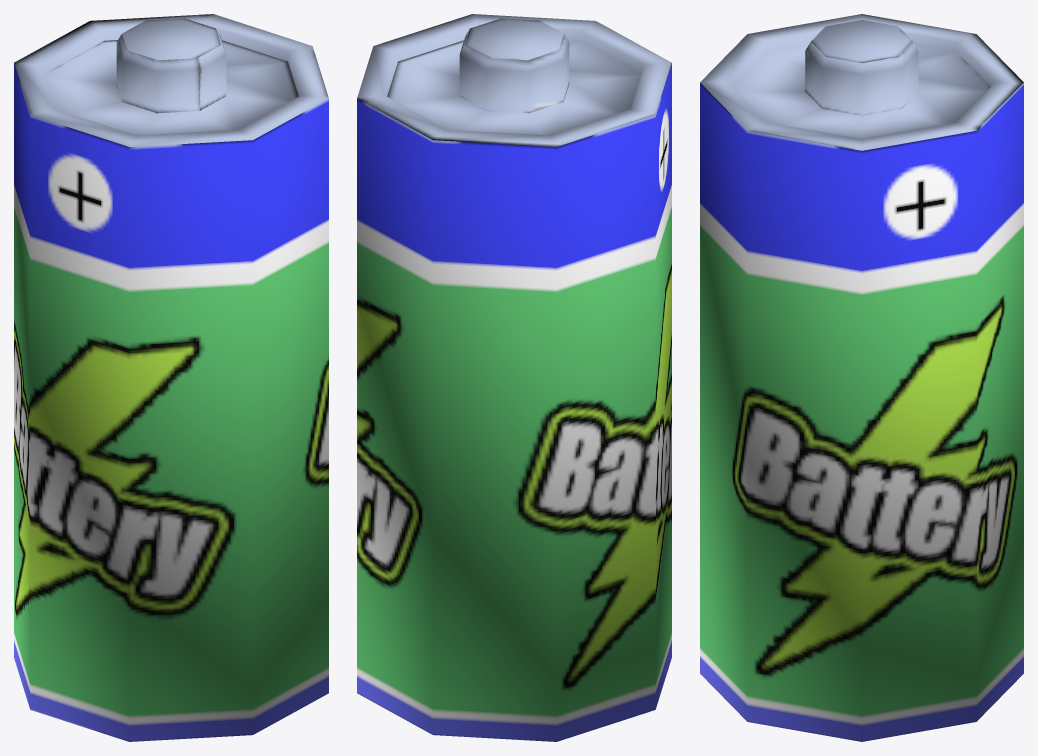
Rendered from Battery.fbx.
The picture shows the model from 3 angles, left to right: view 1: azimuth 30°, elevation 25°; view 2: azimuth 150°, elevation 25°; view 3: azimuth 270°, elevation 25°; orthographic projection.
Visible parts, largest first — view 1: Cylinder; view 2: Cylinder; view 3: Cylinder.
Part boxes in pixels (x1=…): Cylinder: x1=14, y1=14, x2=328, y2=741; Cylinder: x1=357, y1=14, x2=671, y2=741; Cylinder: x1=700, y1=14, x2=1023, y2=741.
Size of the model in its own units: 0.338 by 0.7275 by 0.338.
